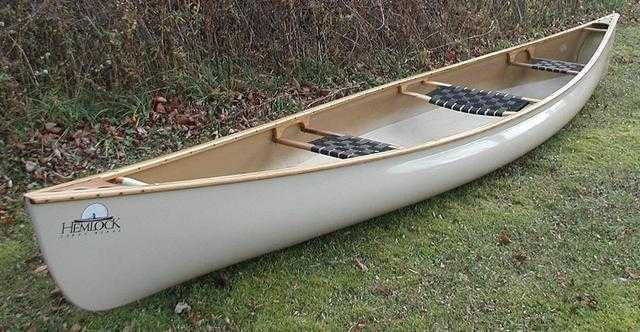kayak: (23, 19, 623, 315)
